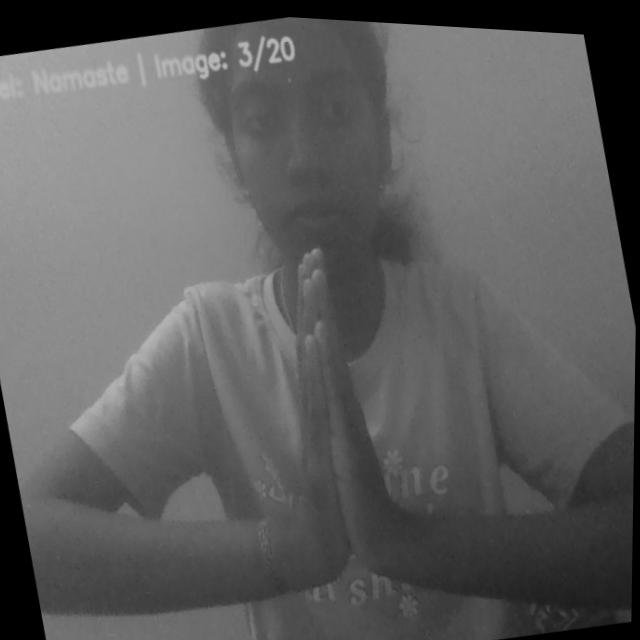Namaste: (245, 223, 422, 593)
